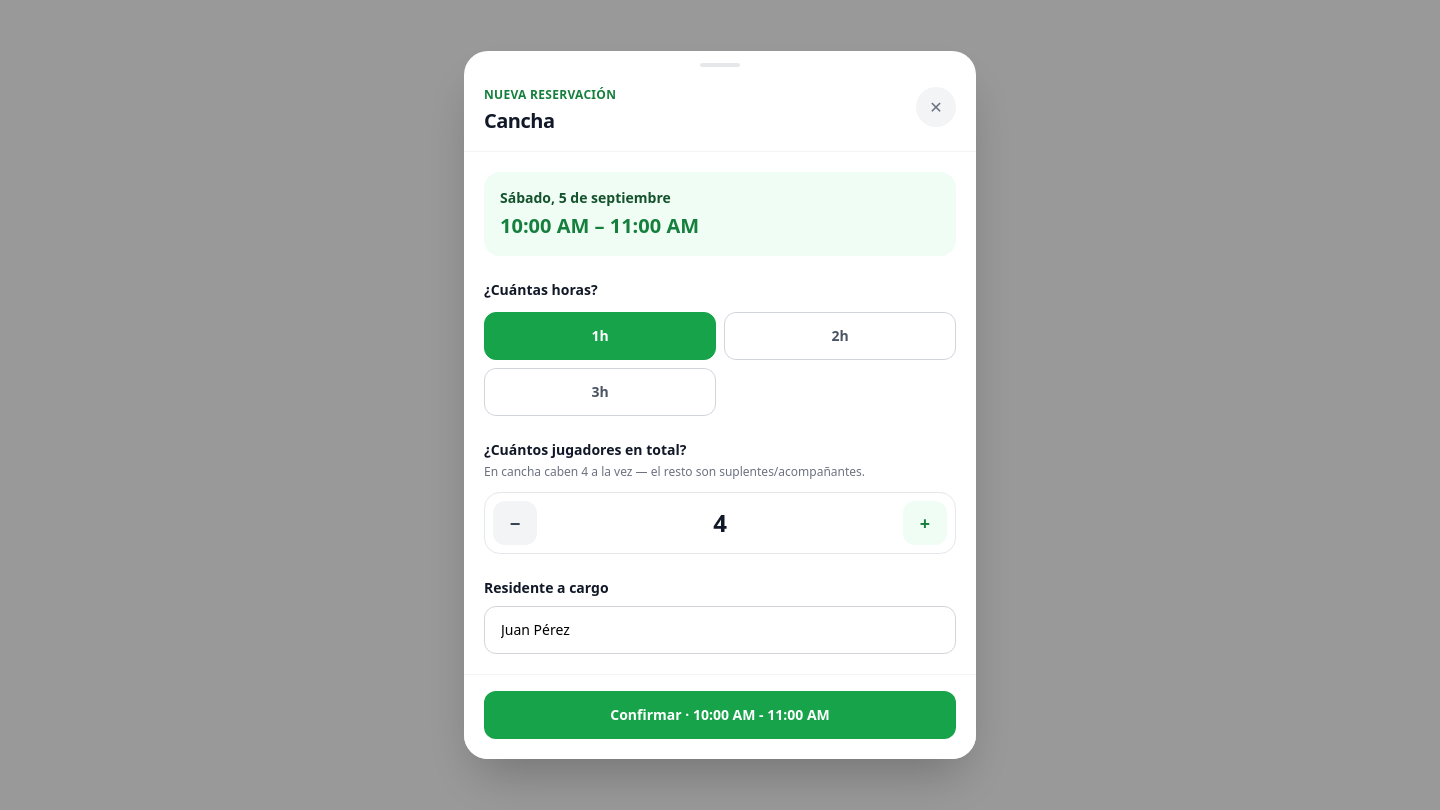
Test: BookingSheet › muestra la pantalla de éxito con el monto y la fecha límite de pago tras confirmar
The image size is (1440, 810).
Click the button "Confirmar · 10:00 AM - 11:00 AM".
click(720, 715)  # box [484, 691, 956, 739]
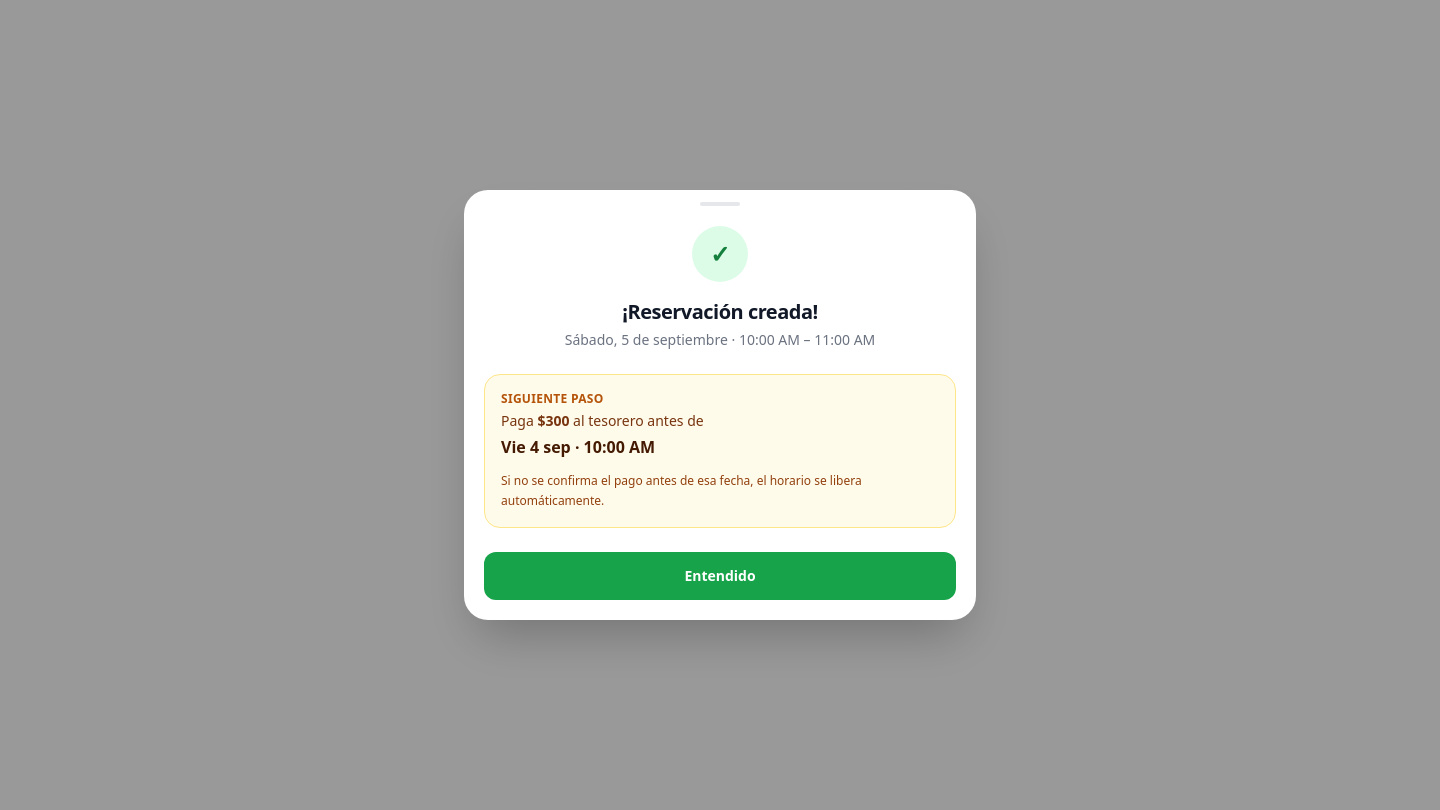
expect the heading "¡Reservación creada!" is shown: met, box [622, 298, 818, 325]
expect the text "$300" is shown: met, box [537, 411, 569, 430]
